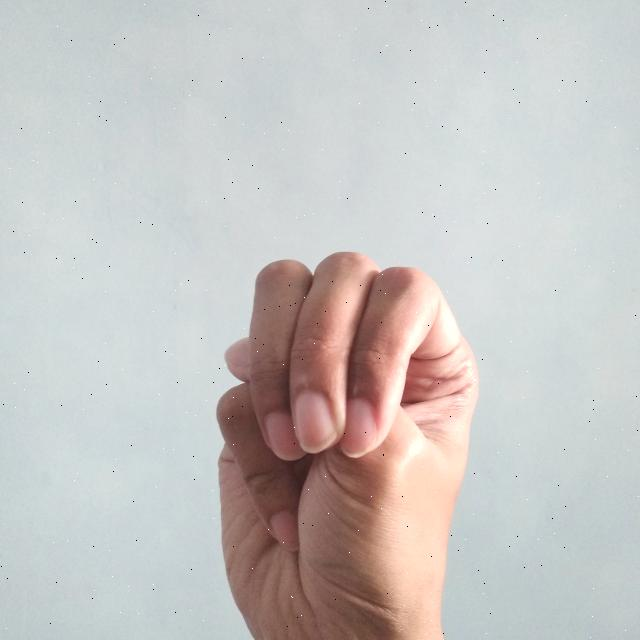M: (207, 241, 481, 640)
